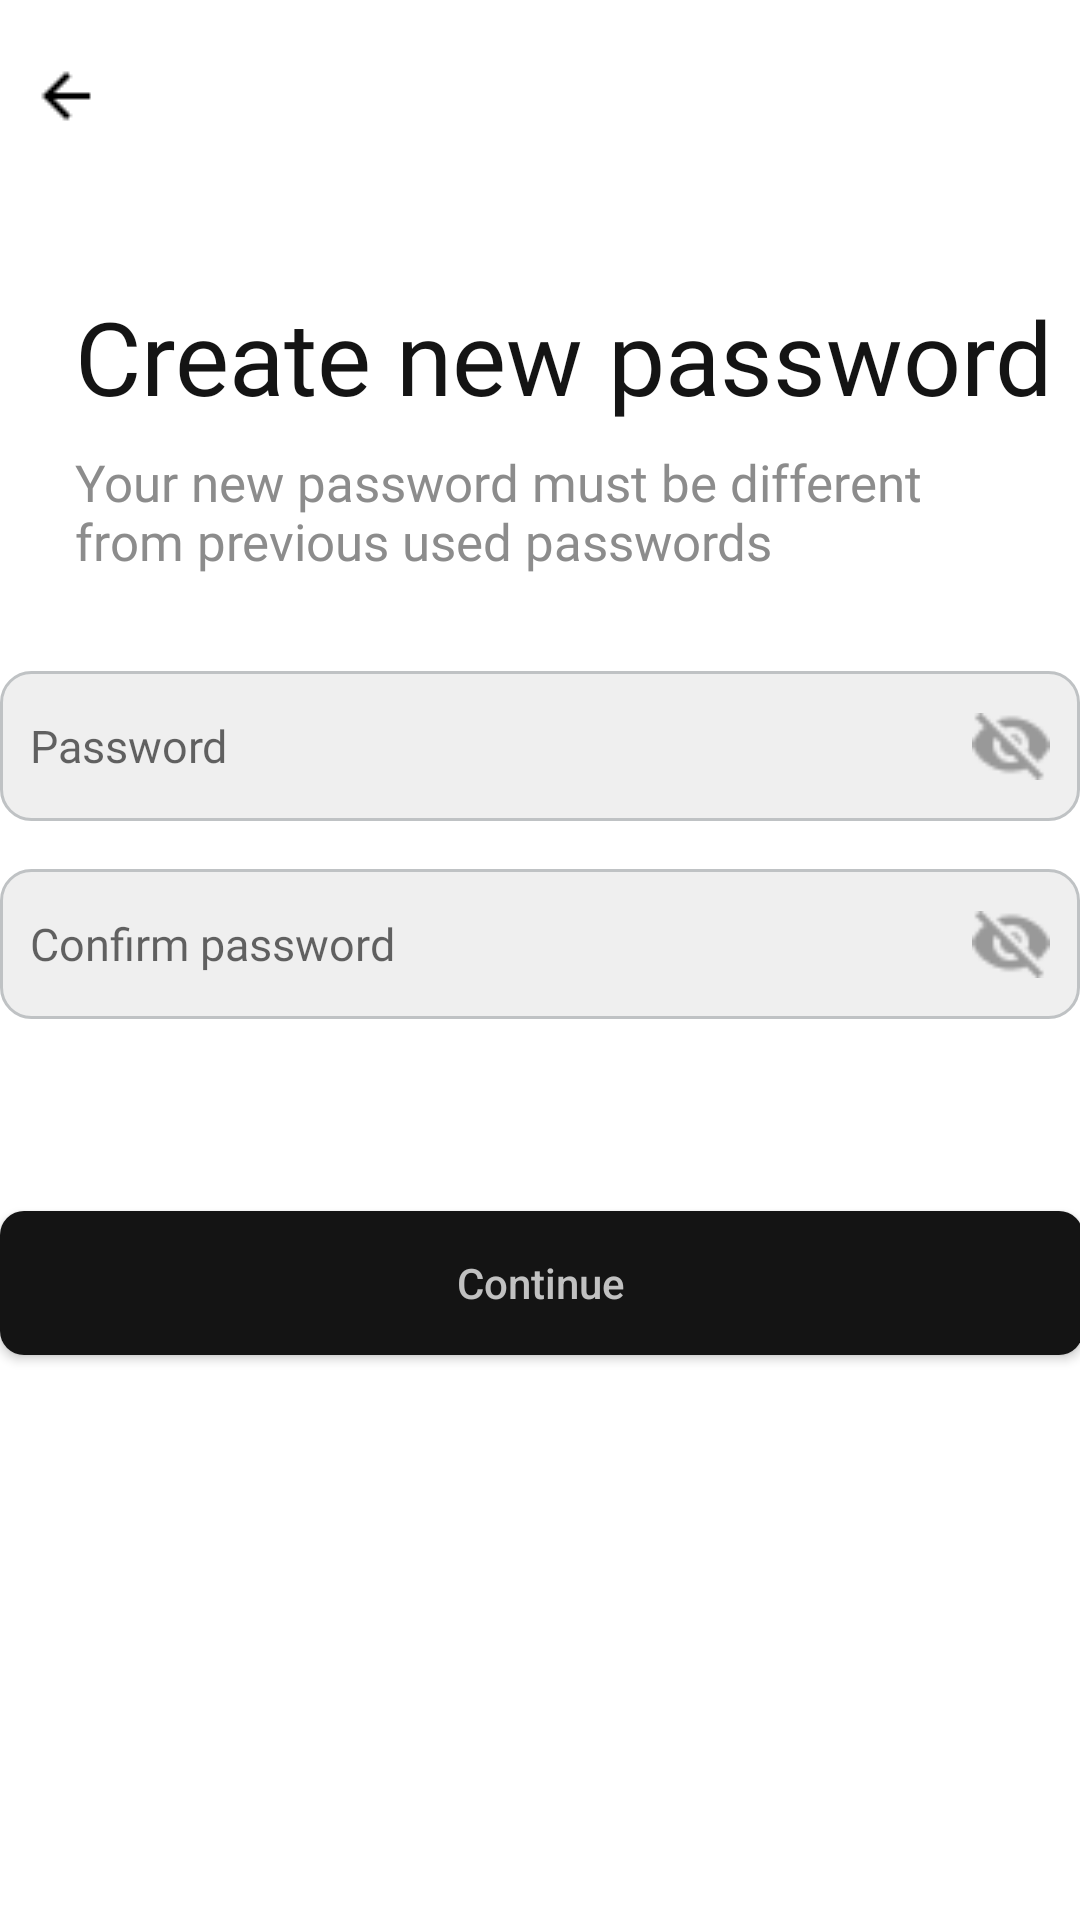

Icon bounding boxes for this 1080 x 1920 phone screenshot, format (x1, y1, x2, y2):
arrow left: (41, 71, 91, 121)
eye: (972, 713, 1050, 780), (972, 911, 1050, 978)
